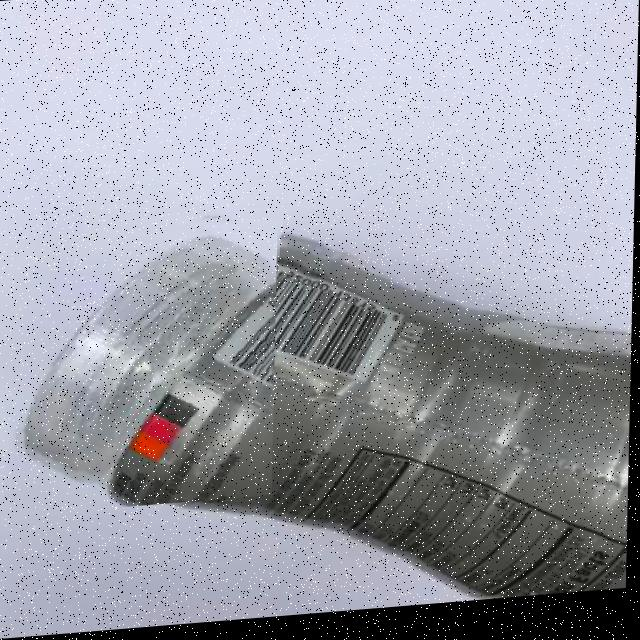plasticbottlecap: (11, 196, 279, 516)
